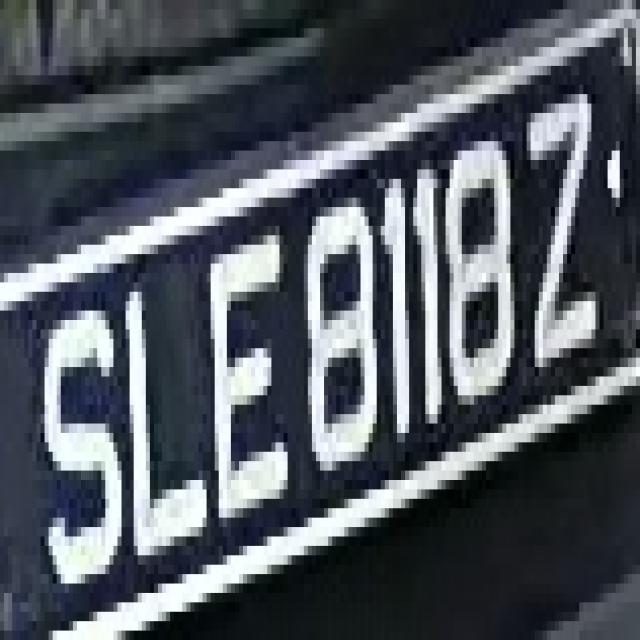1: (373, 150, 417, 490), (405, 150, 454, 442)
8: (438, 113, 522, 442), (296, 179, 376, 499)
E: (207, 217, 296, 527)
L: (122, 264, 210, 574)
S: (36, 273, 126, 602)
Z: (522, 47, 612, 405)
